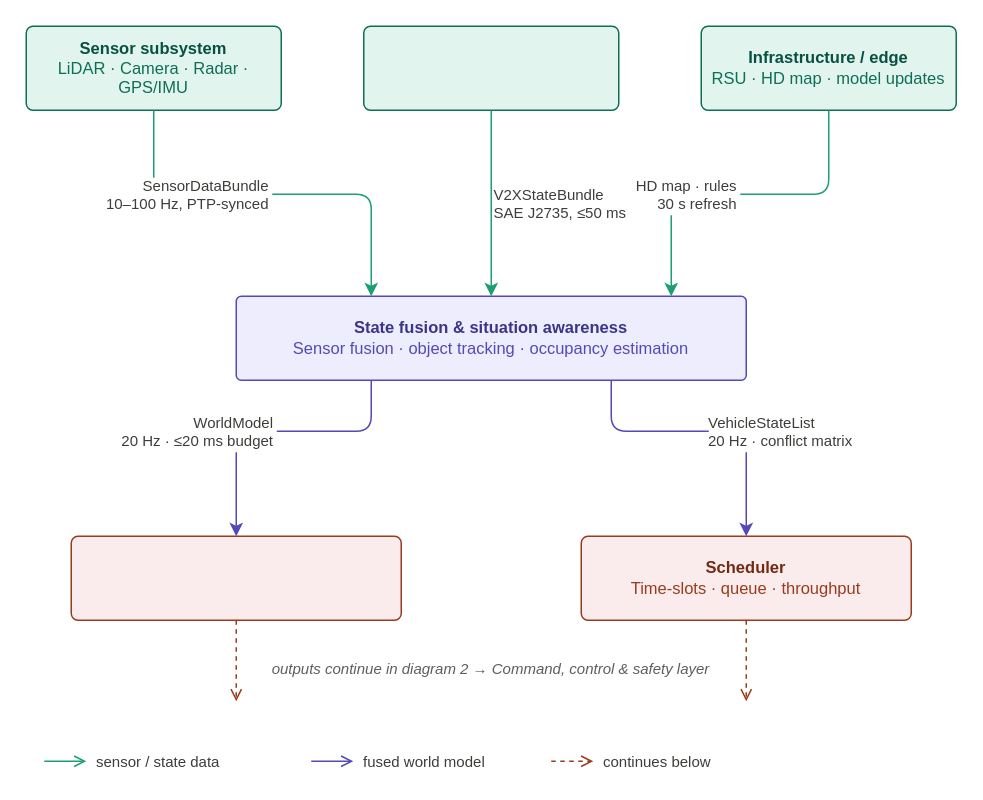
Some shapes in this 983 by 800 pixel diagram are drawn without their labels. The shapes that lost their labels are listed below. From the top down, each one's box as (x1, y1, x2, y2) in pixels, then its label:
(362, 25, 619, 110): V2X interface V2V · V2I · intent sharing
(70, 535, 401, 620): Traffic arbitration unit Priority · conflict resolution
